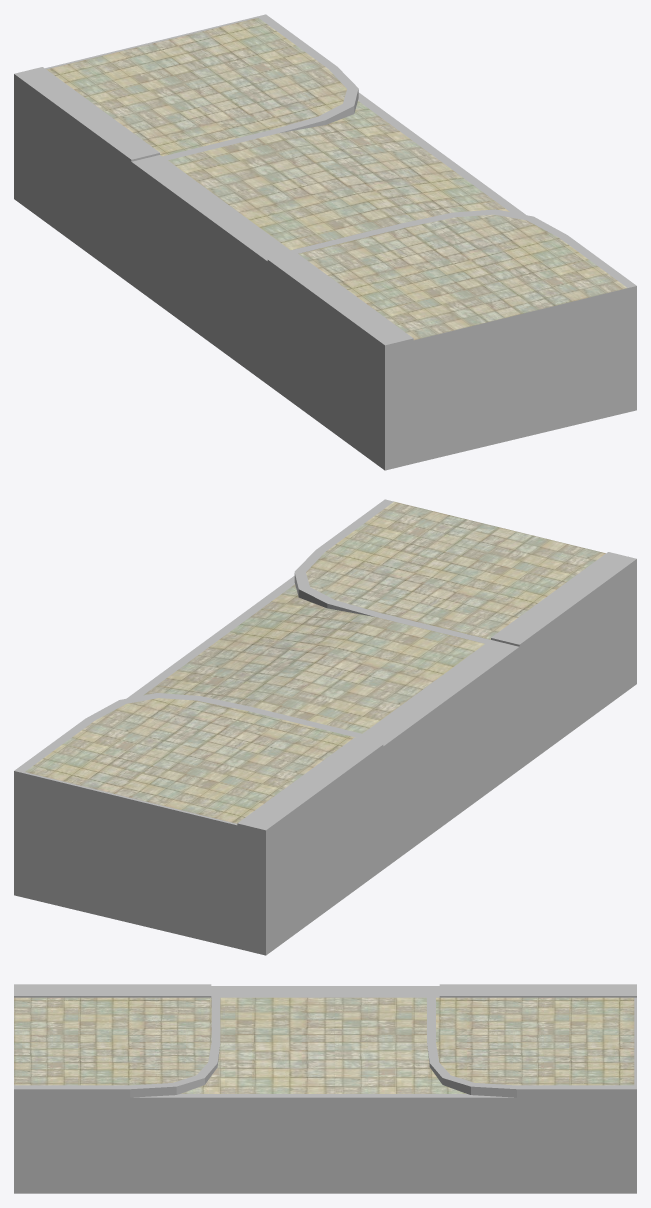
The model's file is road_w02_t01.fbx.
3 views of the same model, one above another, from view 1: azimuth 30°, elevation 25°; view 2: azimuth 150°, elevation 25°; view 3: azimuth 270°, elevation 25° (orthographic). The views are drawn at different scales.
Parts seen in each view (by area): view 1: road_w02_t01; view 2: road_w02_t01; view 3: road_w02_t01.
Boxes of the visible parts, <box> form: road_w02_t01: <box>14,14,636,470</box>; road_w02_t01: <box>14,499,636,955</box>; road_w02_t01: <box>14,984,636,1193</box>.
Bounding box in the file's own units: 4.71 × 2.26 × 12.
